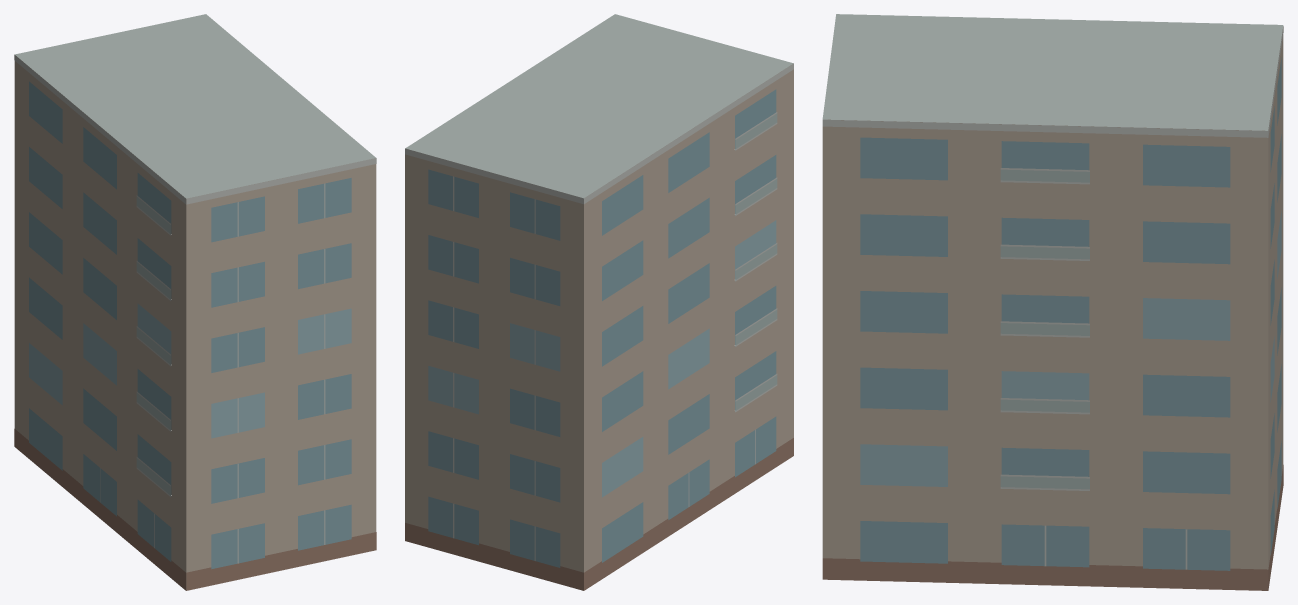
The model's file is survey-upis-32894069.glb.
The picture shows the model from 3 angles, left to right: view 1: azimuth 30°, elevation 25°; view 2: azimuth 150°, elevation 25°; view 3: azimuth 270°, elevation 25°; orthographic projection. The views are drawn at different scales.
Visible parts, largest first — view 1: survey-upis-32894069.tmp; view 2: survey-upis-32894069.tmp; view 3: survey-upis-32894069.tmp.
Boxes of the visible parts, bbox=[...] form: survey-upis-32894069.tmp: bbox=[14, 14, 376, 590]; survey-upis-32894069.tmp: bbox=[405, 14, 793, 590]; survey-upis-32894069.tmp: bbox=[822, 14, 1283, 590].
Size of the model in its own units: 8.75 by 16.05 by 14.59.
